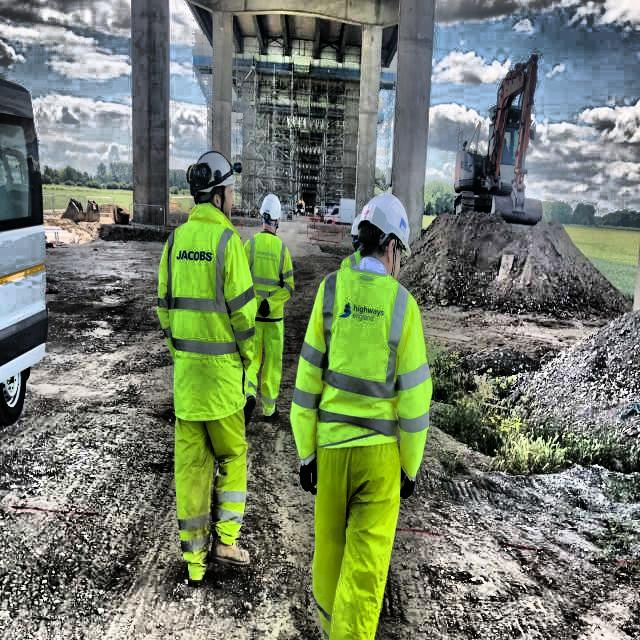person: (298, 179, 436, 640), (152, 145, 259, 594)
